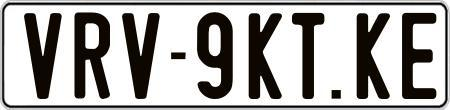9: (196, 9, 233, 99)
E: (399, 12, 432, 104)
K: (357, 13, 394, 99), (249, 12, 284, 102)
R: (72, 11, 114, 102)
T: (290, 11, 325, 103)
V: (24, 11, 68, 102), (119, 10, 159, 100)
